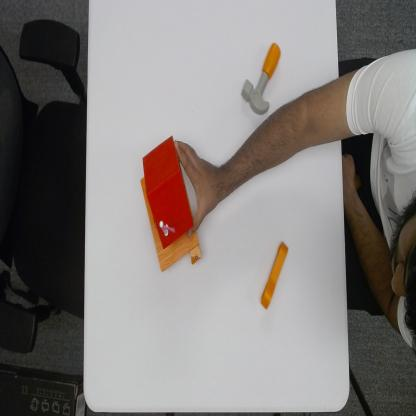Arm: (220, 88, 341, 194)
Hammer: (240, 40, 282, 116)
Hand: (174, 136, 224, 239)
House: (140, 132, 203, 274)
Screwdriver: (259, 238, 290, 312)
